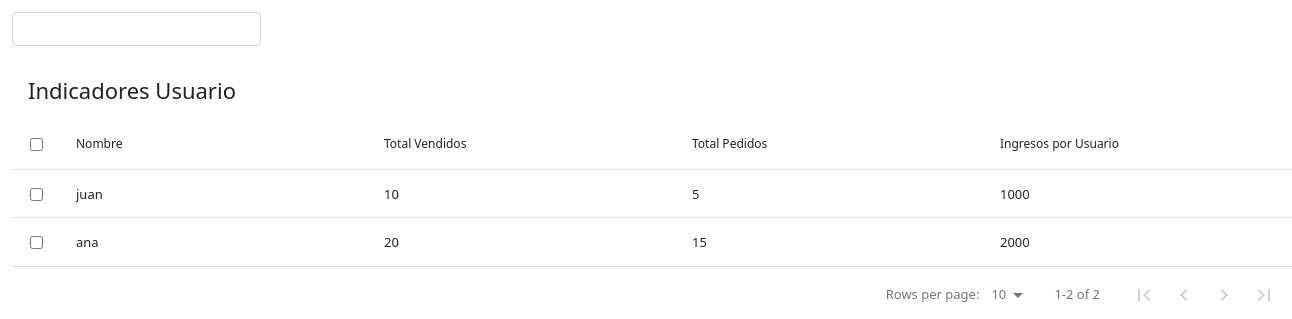
it: TableIndicadoresUsuario › filtra los registros al escribir en el input de búsqueda
Check: the text "juan" is shown, box [76,184,103,202]
Check: the text "ana" is shown, box [76,233,99,251]
In the field: (136, 29) [12,12,261,46], type "ana"
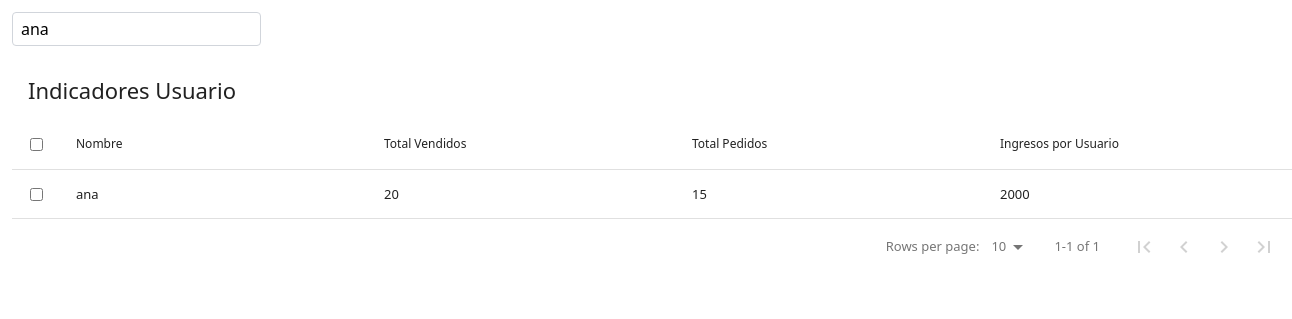
Check: the text "ana" is shown, box [76,185,99,203]
Check: the text "juan" is gone
